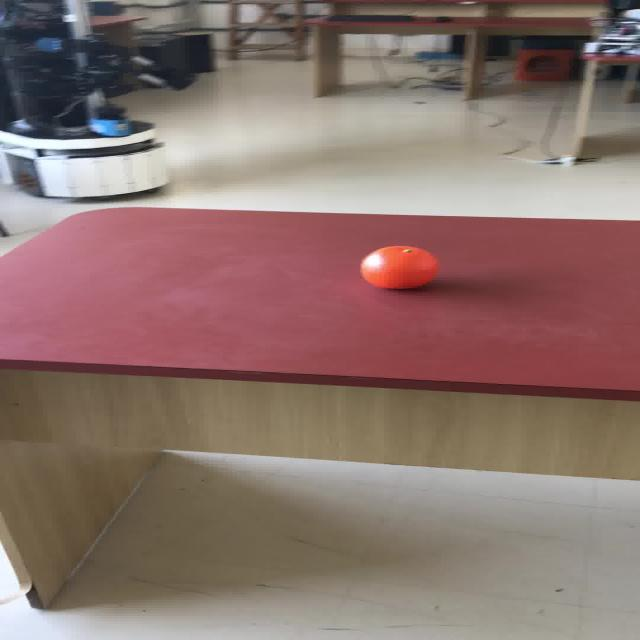orange: (358, 245, 438, 289)
